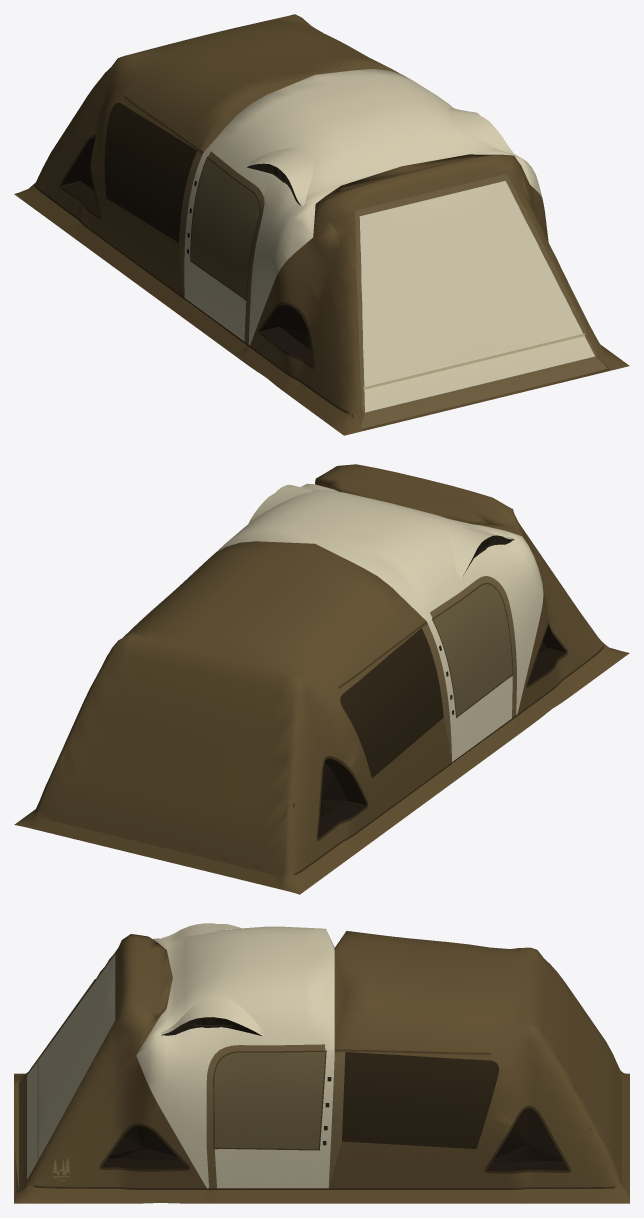
File: ogawa-tierra-largo.glb
The picture shows the model from 3 angles, top to bottom: view 1: azimuth 30°, elevation 25°; view 2: azimuth 150°, elevation 25°; view 3: azimuth 270°, elevation 25°; orthographic projection. The views are drawn at different scales.
Visible parts, largest first — view 1: ogawa-tierra-largo-beige, ogawa-tierra-largo-brown, ogawa-tierra-largo-band, ogawa-tierra-largo-meshdark, ogawa-tierra-largo-skirt, ogawa-tierra-largo-mesh, ogawa-tierra-largo-inner, ogawa-tierra-largo-trim, ogawa-tierra-largo-seam, ogawa-tierra-largo-crease; view 2: ogawa-tierra-largo-brown, ogawa-tierra-largo-beige, ogawa-tierra-largo-skirt, ogawa-tierra-largo-meshdark, ogawa-tierra-largo-mesh, ogawa-tierra-largo-inner, ogawa-tierra-largo-band, ogawa-tierra-largo-trim, ogawa-tierra-largo-seam; view 3: ogawa-tierra-largo-brown, ogawa-tierra-largo-beige, ogawa-tierra-largo-meshdark, ogawa-tierra-largo-mesh, ogawa-tierra-largo-skirt, ogawa-tierra-largo-inner, ogawa-tierra-largo-band, ogawa-tierra-largo-trim, ogawa-tierra-largo-seam, ogawa-tierra-largo-vent.
Boxes of the visible parts, bbox=[...] form: ogawa-tierra-largo-beige: bbox=[184, 69, 594, 412]; ogawa-tierra-largo-brown: bbox=[34, 14, 604, 427]; ogawa-tierra-largo-band: bbox=[179, 151, 607, 428]; ogawa-tierra-largo-meshdark: bbox=[104, 102, 196, 242]; ogawa-tierra-largo-skirt: bbox=[14, 183, 629, 435]; ogawa-tierra-largo-mesh: bbox=[191, 158, 259, 298]; ogawa-tierra-largo-inner: bbox=[61, 137, 313, 365]; ogawa-tierra-largo-trim: bbox=[35, 134, 603, 413]; ogawa-tierra-largo-seam: bbox=[124, 96, 260, 300]; ogawa-tierra-largo-crease: bbox=[363, 333, 584, 389]; ogawa-tierra-largo-brown: bbox=[34, 464, 604, 876]; ogawa-tierra-largo-beige: bbox=[216, 483, 543, 763]; ogawa-tierra-largo-skirt: bbox=[14, 642, 629, 894]; ogawa-tierra-largo-meshdark: bbox=[340, 628, 443, 777]; ogawa-tierra-largo-mesh: bbox=[433, 584, 512, 716]; ogawa-tierra-largo-inner: bbox=[318, 624, 566, 838]; ogawa-tierra-largo-band: bbox=[422, 576, 516, 761]; ogawa-tierra-largo-trim: bbox=[294, 622, 604, 875]; ogawa-tierra-largo-seam: bbox=[338, 583, 513, 717]; ogawa-tierra-largo-brown: bbox=[14, 931, 621, 1191]; ogawa-tierra-largo-beige: bbox=[27, 923, 334, 1188]; ogawa-tierra-largo-meshdark: bbox=[342, 1052, 498, 1149]; ogawa-tierra-largo-mesh: bbox=[214, 1052, 325, 1149]; ogawa-tierra-largo-skirt: bbox=[14, 1070, 629, 1203]; ogawa-tierra-largo-inner: bbox=[102, 1108, 568, 1171]; ogawa-tierra-largo-band: bbox=[19, 948, 345, 1191]; ogawa-tierra-largo-trim: bbox=[34, 1105, 614, 1189]; ogawa-tierra-largo-seam: bbox=[213, 1049, 490, 1150]; ogawa-tierra-largo-vent: bbox=[161, 1017, 262, 1036].
Size of the model in its own units: 3.1 by 2.1 by 6.2.
